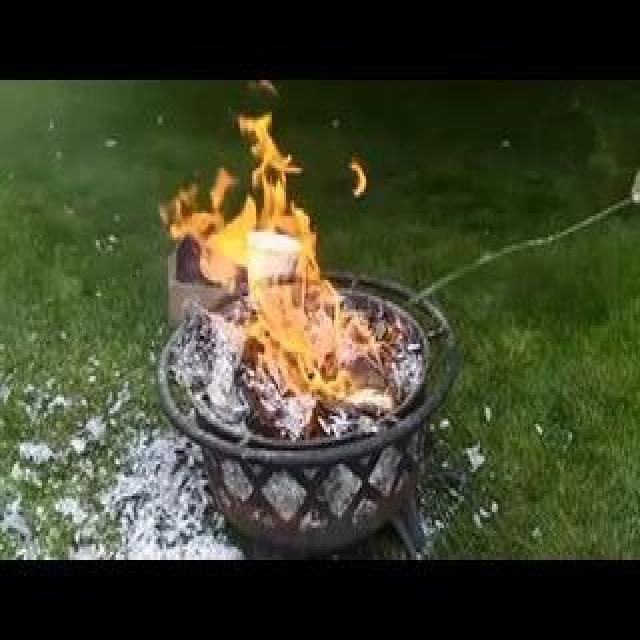Fire: (258, 274, 286, 294)
